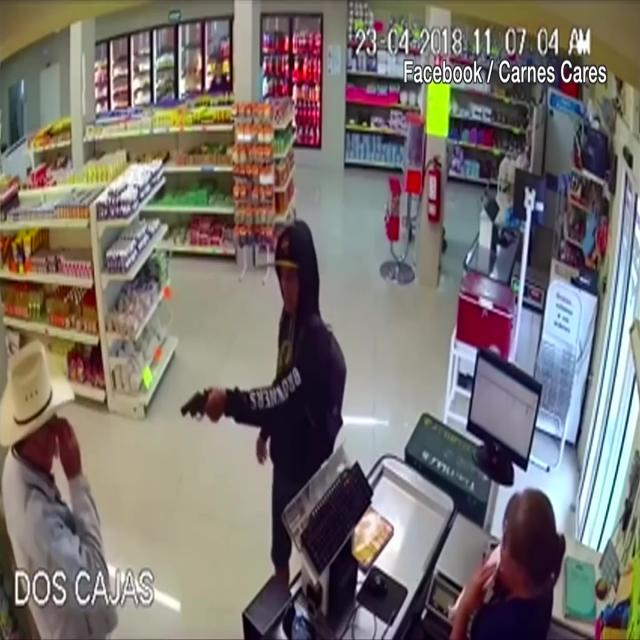Weapon: (158, 377, 226, 435)
